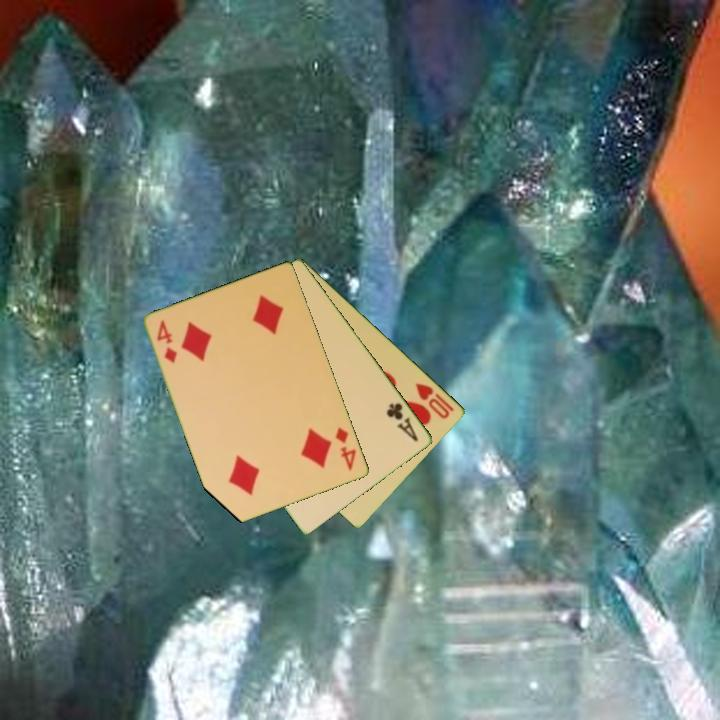10h: (412, 379, 457, 422)
4d: (332, 423, 359, 473), (154, 317, 180, 366)
Ac: (383, 399, 422, 445)
